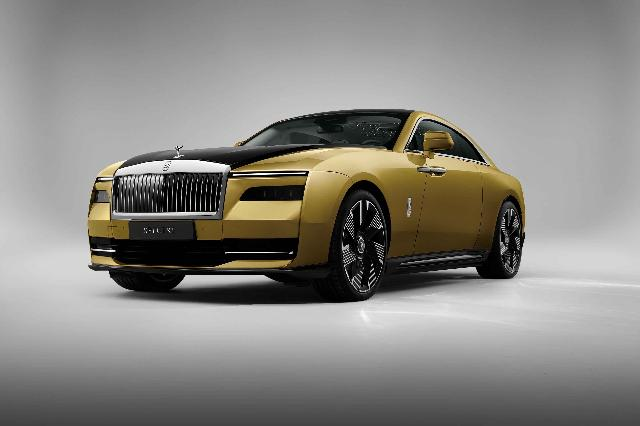rolls-royce: (87, 109, 526, 301)
